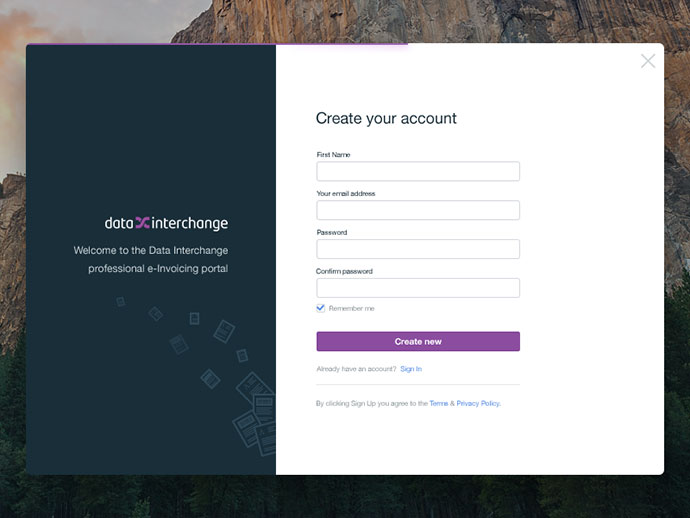_form_: (178, 51, 595, 467)
button: (316, 331, 521, 351)
checkbox: (314, 303, 328, 314)
field: (314, 159, 521, 182), (316, 198, 520, 221), (312, 276, 521, 298), (314, 238, 520, 260)
